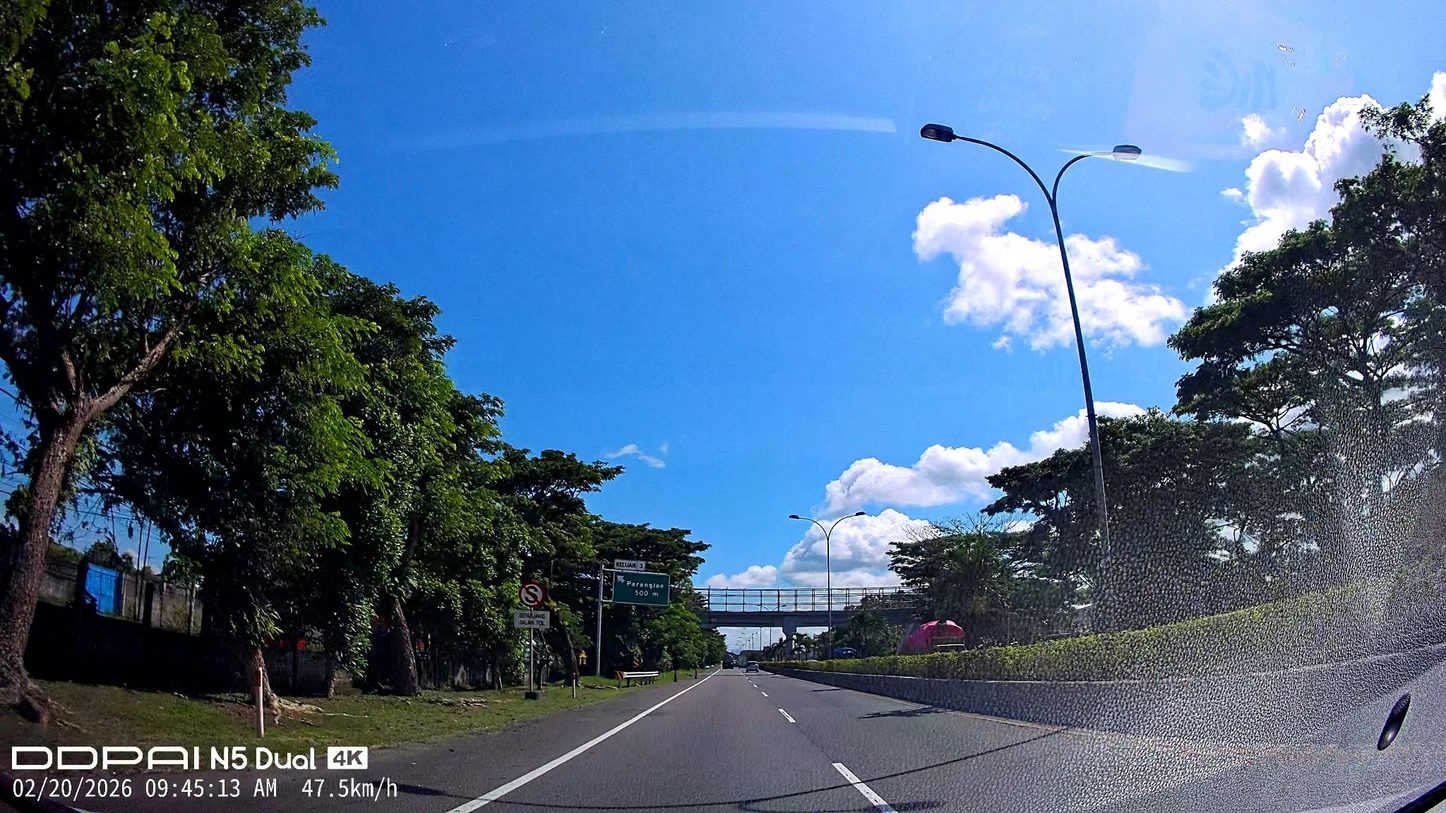rambu_teks: (612, 570, 671, 608)
